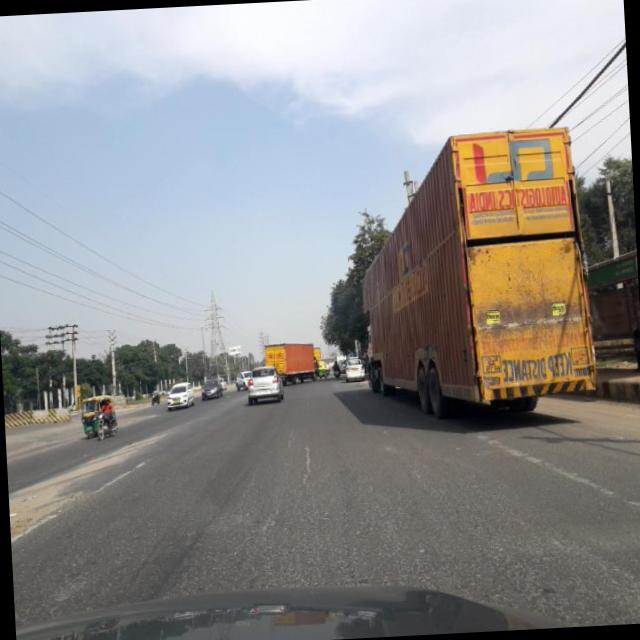pothole: (296, 418, 322, 482), (263, 481, 288, 545)
